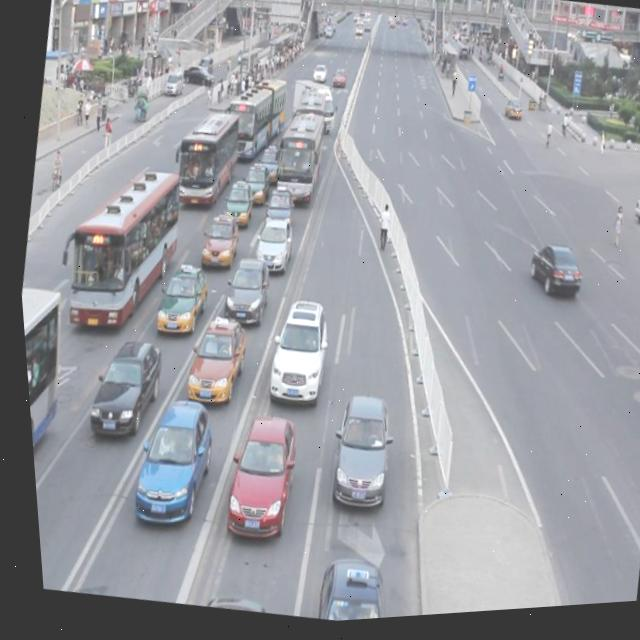bus: (283, 81, 340, 141)
car: (117, 393, 216, 533), (209, 410, 300, 545), (314, 393, 396, 514), (77, 334, 162, 441), (255, 297, 332, 409), (174, 315, 247, 410), (300, 555, 387, 626), (145, 260, 209, 339), (214, 254, 270, 331), (519, 246, 580, 306), (247, 218, 294, 276), (193, 213, 239, 272), (216, 180, 254, 230), (258, 185, 294, 235), (236, 164, 270, 208), (250, 146, 281, 186), (626, 193, 640, 235), (500, 102, 521, 128)
van: (41, 156, 190, 340), (17, 284, 77, 522), (161, 107, 244, 214), (215, 74, 292, 169), (265, 111, 327, 209), (286, 92, 330, 150)
